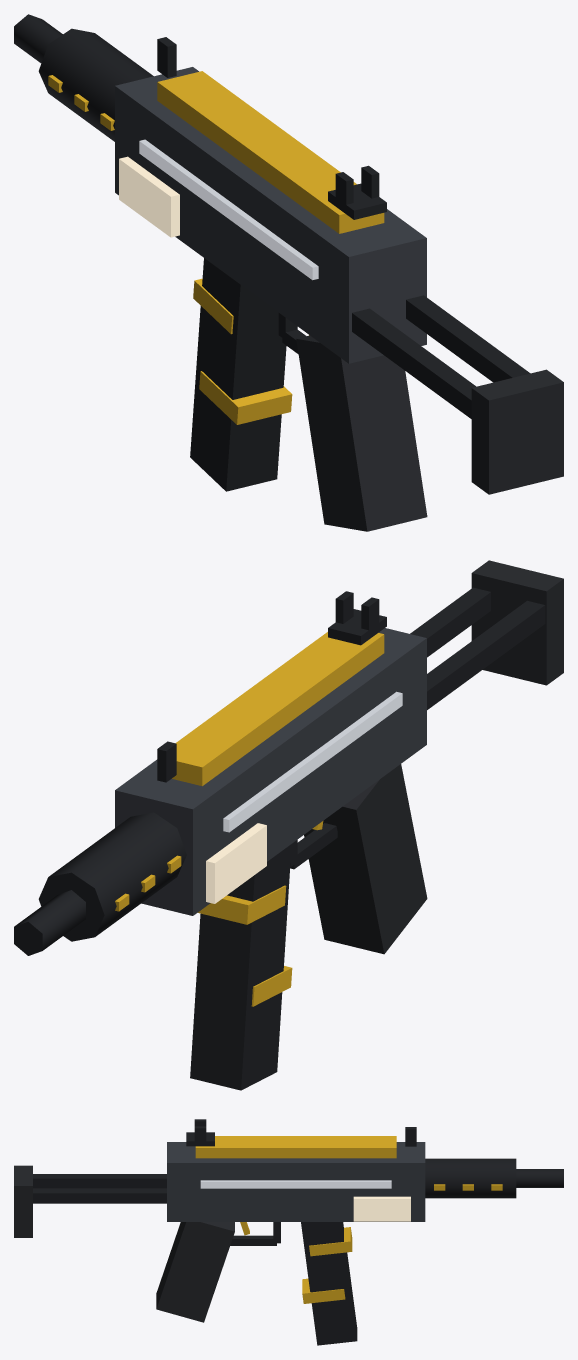
The model's file is BO_SK_Weapon_Smg_v001.glb.
3 renders of one model, top to bottom at view 1: azimuth 30°, elevation 25°; view 2: azimuth 150°, elevation 25°; view 3: azimuth 270°, elevation 25°, orthographic. The views are drawn at different scales.
Visible parts, largest first — view 1: body_000, body_011, body_015, body_001, body_020, body_006, body_019, body_018, glowfx_022, glowfx_024, body_017, body_010 (+3 smaller); view 2: body_000, body_015, body_011, body_001, body_006, body_020, body_019, glowfx_022, glowfx_024, body_010, body_018, body_016 (+4 smaller); view 3: body_000, body_011, body_015, body_001, body_006, body_018, body_019, glowfx_021, glowfx_023, body_020, body_010, body_016 (+3 smaller).
Part boxes in pixels (x1,y1,x2,y2): body_000: [115, 67, 426, 363]; body_011: [296, 335, 427, 531]; body_015: [190, 258, 286, 491]; body_001: [157, 71, 384, 233]; body_020: [471, 369, 563, 494]; body_006: [38, 28, 153, 141]; body_019: [352, 308, 475, 418]; body_018: [406, 295, 530, 382]; glowfx_022: [139, 139, 318, 280]; glowfx_024: [119, 156, 179, 237]; body_017: [199, 371, 292, 424]; body_010: [14, 14, 62, 63]; body_000: [115, 628, 426, 915]; body_015: [190, 844, 291, 1090]; body_011: [304, 764, 427, 954]; body_001: [172, 632, 384, 786]; body_006: [38, 812, 186, 941]; body_020: [471, 560, 563, 685]; body_019: [427, 600, 545, 709]; glowfx_022: [223, 691, 402, 832]; glowfx_024: [206, 823, 266, 903]; body_010: [14, 890, 85, 955]; body_018: [410, 587, 490, 657]; body_016: [198, 885, 286, 924]; body_000: [167, 1142, 425, 1221]; body_011: [156, 1222, 234, 1322]; body_015: [301, 1222, 357, 1345]; body_001: [195, 1136, 396, 1158]; body_006: [425, 1158, 516, 1198]; body_018: [33, 1188, 166, 1203]; body_019: [33, 1174, 166, 1188]; glowfx_021: [200, 1180, 391, 1188]; glowfx_023: [353, 1196, 410, 1221]; body_020: [14, 1165, 32, 1237]; body_010: [516, 1169, 563, 1187]; body_016: [309, 1227, 352, 1256].
Size of the model in its own units: 0.064 by 0.248 by 0.575.
